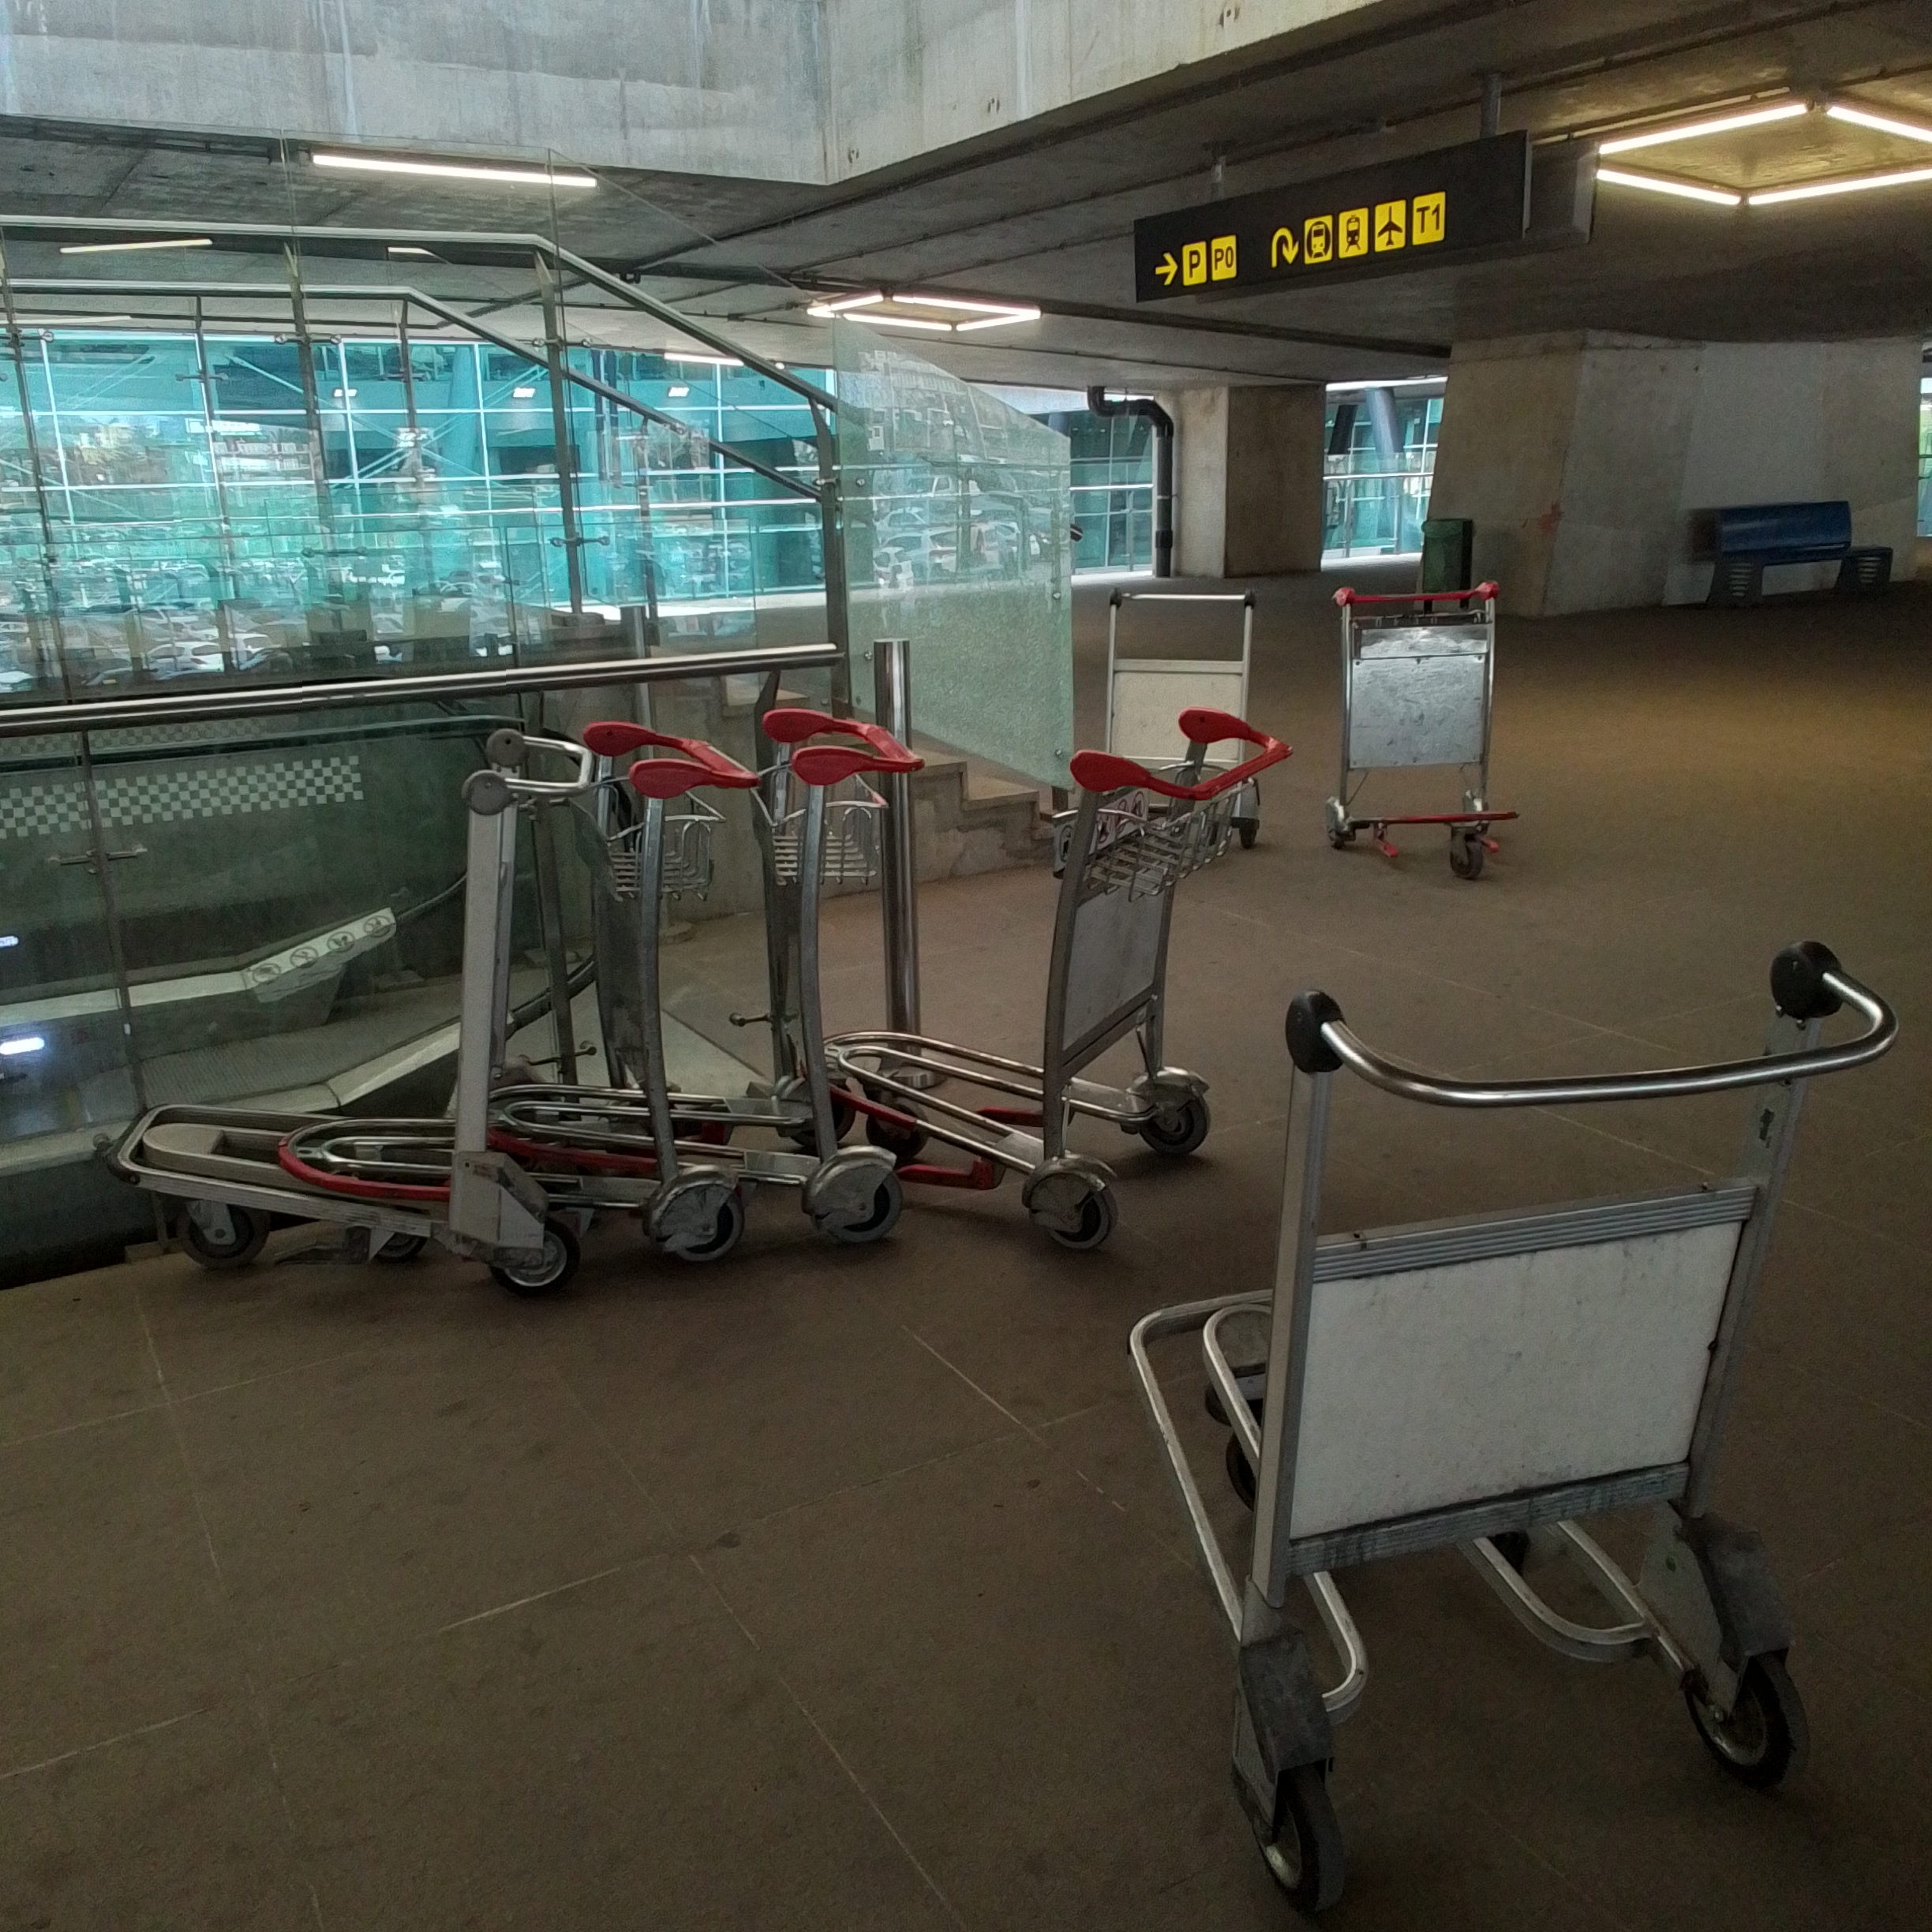airport-trolley: (1132, 943, 1890, 1893), (138, 740, 609, 1309), (842, 713, 1288, 1223), (718, 683, 925, 1249), (593, 686, 748, 1318), (1323, 575, 1522, 878), (1076, 575, 1267, 839)
